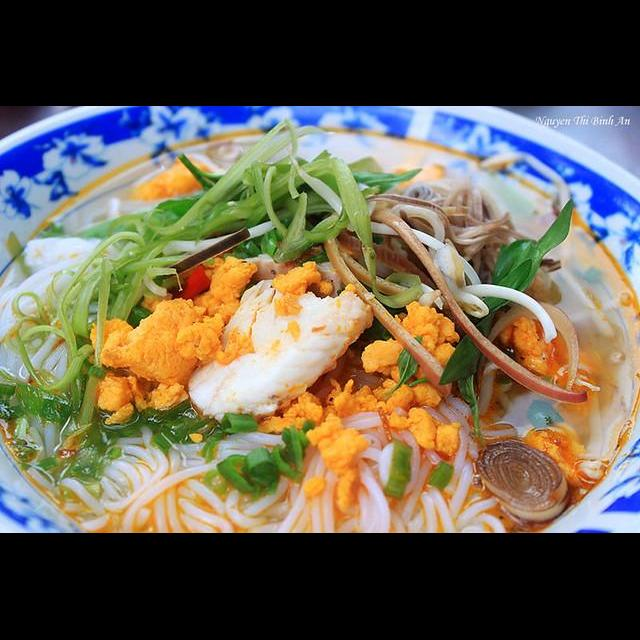bun: (26, 418, 517, 534), (1, 188, 137, 380)
bun ca: (16, 131, 619, 533)
ca: (177, 270, 377, 436)
rau ram: (433, 194, 579, 392), (137, 148, 424, 238)
